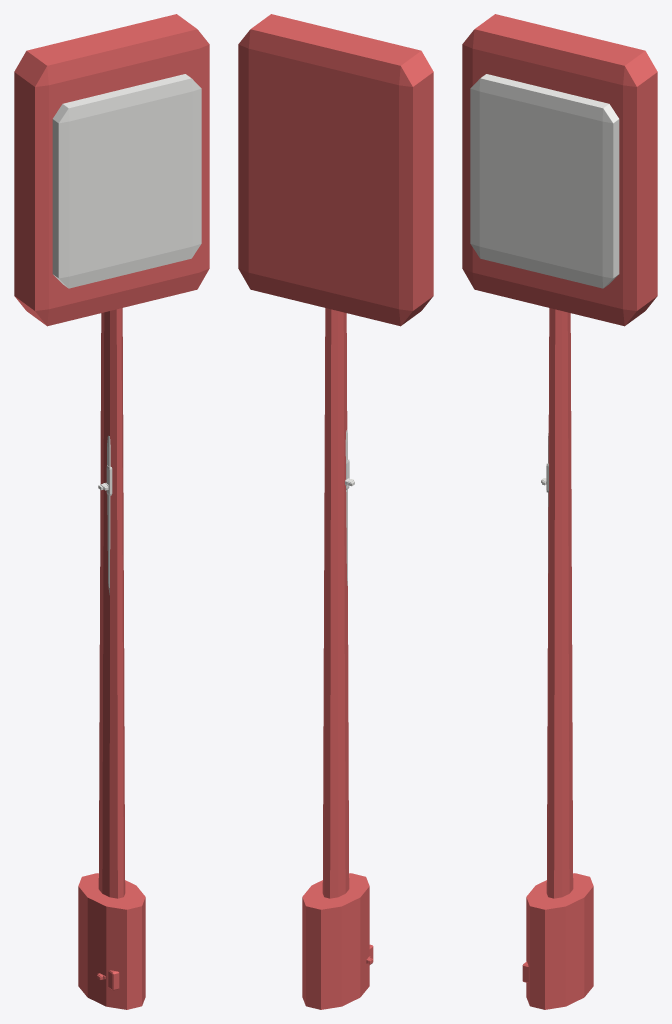
File: b02_bus_stop_sign.glb
The picture shows the model from 3 angles, left to right: view 1: azimuth 30°, elevation 25°; view 2: azimuth 150°, elevation 25°; view 3: azimuth 330°, elevation 25°; orthographic projection.
Visible parts, largest first — view 1: b02_bus_stop_sign; view 2: b02_bus_stop_sign; view 3: b02_bus_stop_sign.
Part boxes in pixels (x1,y1,x2,y2): b02_bus_stop_sign: (14,14,209,1009); b02_bus_stop_sign: (238,14,433,1009); b02_bus_stop_sign: (462,14,657,1009).
Bounding box in the file's own units: 0.49 × 2.55 × 0.219.
